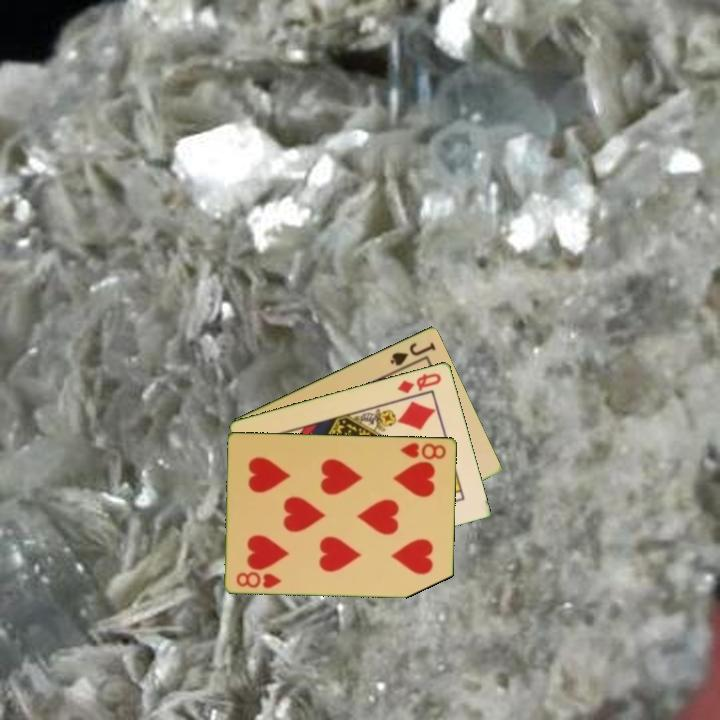8h: (397, 439, 449, 462), (233, 568, 285, 591)
Js: (387, 338, 439, 368)
Qd: (394, 369, 444, 396)
